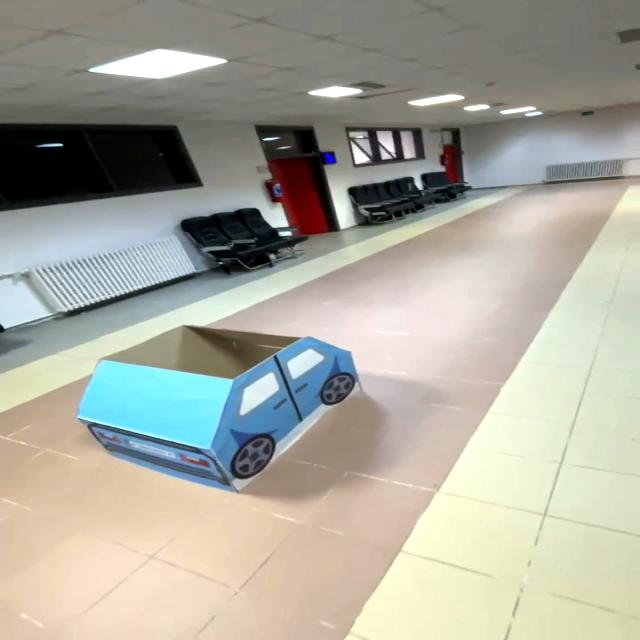blue_car: (70, 304, 389, 514)
